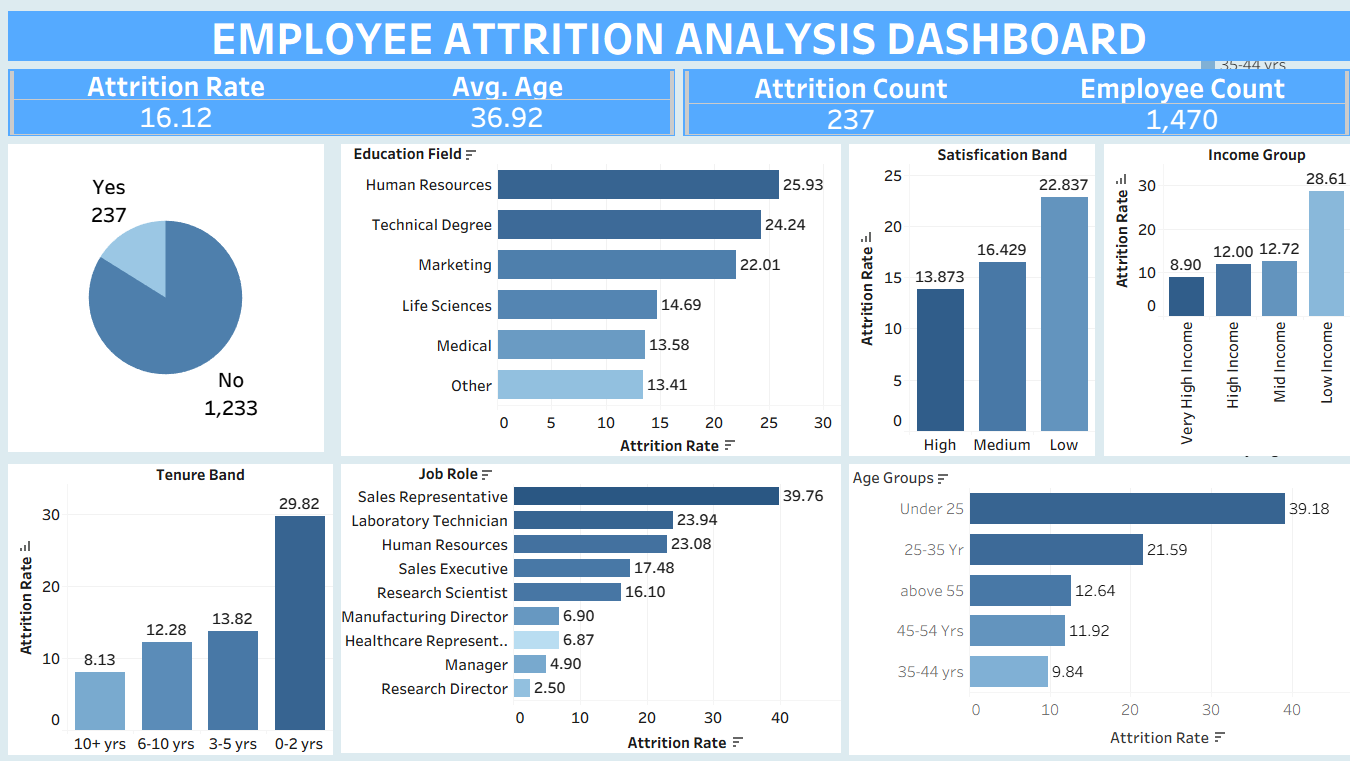

This screenshot's page, from the dashboard's own definition file:
{"tool":"tableau","page":{"name":"Dashboard 1","canvas":[1366,768],"ordinal":0},"visuals":[{"type":"title","box":[8,8,1350,58]},{"type":"legend","title":"Sheet 10","param":"[federated.10omo5q05sn47a117126z07hyk3n].[none:Age Groups:nk]","box":[1198,8,160,135]},{"type":"worksheet","title":"Sheet 1","mark":"Automatic","box":[8,66,674.9,75]},{"type":"worksheet","title":"Sheet 9","mark":"Automatic","box":[682.9,66,675.1,75]},{"type":"worksheet","title":"Sheet 7","mark":"Pie","box":[8,141,333,320]},{"type":"worksheet","title":"Sheet 4","mark":"Bar","rows":["EducationField"],"cols":["Calculation_0242761447337984"],"box":[341,141,508.5,320]},{"type":"worksheet","title":"Sheet 6","mark":"Automatic","rows":["Calculation_0242761447337984"],"cols":["Satisfication_Band"],"box":[849.5,141,254.3,320]},{"type":"worksheet","title":"Sheet 3","mark":"Automatic","rows":["Calculation_0242761447337984"],"cols":["Income Group"],"box":[1103.7,141,254.3,320]},{"type":"legend","title":"Sheet 5","param":"[federated.10omo5q05sn47a117126z07hyk3n].[none:Tenure_Band:nk]","box":[1198,143,160,114]},{"type":"legend","title":"Sheet 6","param":"[federated.10omo5q05sn47a117126z07hyk3n].[none:Satisfication_Band:nk]","box":[1198,257,160,93]},{"type":"legend","title":"Sheet 3","param":"[federated.10omo5q05sn47a117126z07hyk3n].[none:Income Group:nk]","box":[1198,350,160,114]},{"type":"worksheet","title":"Sheet 5","mark":"Automatic","rows":["Calculation_0242761447337984"],"cols":["Tenure_Band"],"box":[8,461,333,299]},{"type":"worksheet","title":"Sheet 8","mark":"Automatic","rows":["JobRole"],"cols":["Calculation_0242761447337984"],"box":[341,461,508,299]},{"type":"worksheet","title":"Sheet 10","mark":"Automatic","rows":["Age Groups"],"cols":["Calculation_0242761447337984"],"box":[849,461,509,299]}]}

Visuals, with their boxes in screenshot pixels (x1, y1, x2, y2), scaled from the page's 1366x768 canvas onto the 1350x761 screenshot:
title: bbox=[8, 8, 1342, 65]
"Sheet 10" legend: bbox=[1184, 8, 1342, 142]
"Sheet 1" worksheet: bbox=[8, 65, 675, 140]
"Sheet 9" worksheet: bbox=[675, 65, 1342, 140]
"Sheet 7" worksheet (Pie marks): bbox=[8, 140, 337, 457]
"Sheet 4" worksheet (Bar marks): bbox=[337, 140, 840, 457]
"Sheet 6" worksheet: bbox=[840, 140, 1091, 457]
"Sheet 3" worksheet: bbox=[1091, 140, 1342, 457]
"Sheet 5" legend: bbox=[1184, 142, 1342, 255]
"Sheet 6" legend: bbox=[1184, 255, 1342, 347]
"Sheet 3" legend: bbox=[1184, 347, 1342, 460]
"Sheet 5" worksheet: bbox=[8, 457, 337, 753]
"Sheet 8" worksheet: bbox=[337, 457, 839, 753]
"Sheet 10" worksheet: bbox=[839, 457, 1342, 753]
